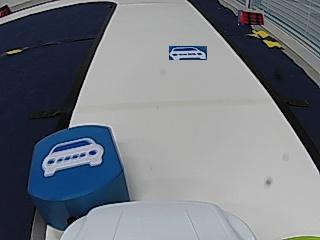safety: (41, 137, 108, 175)
